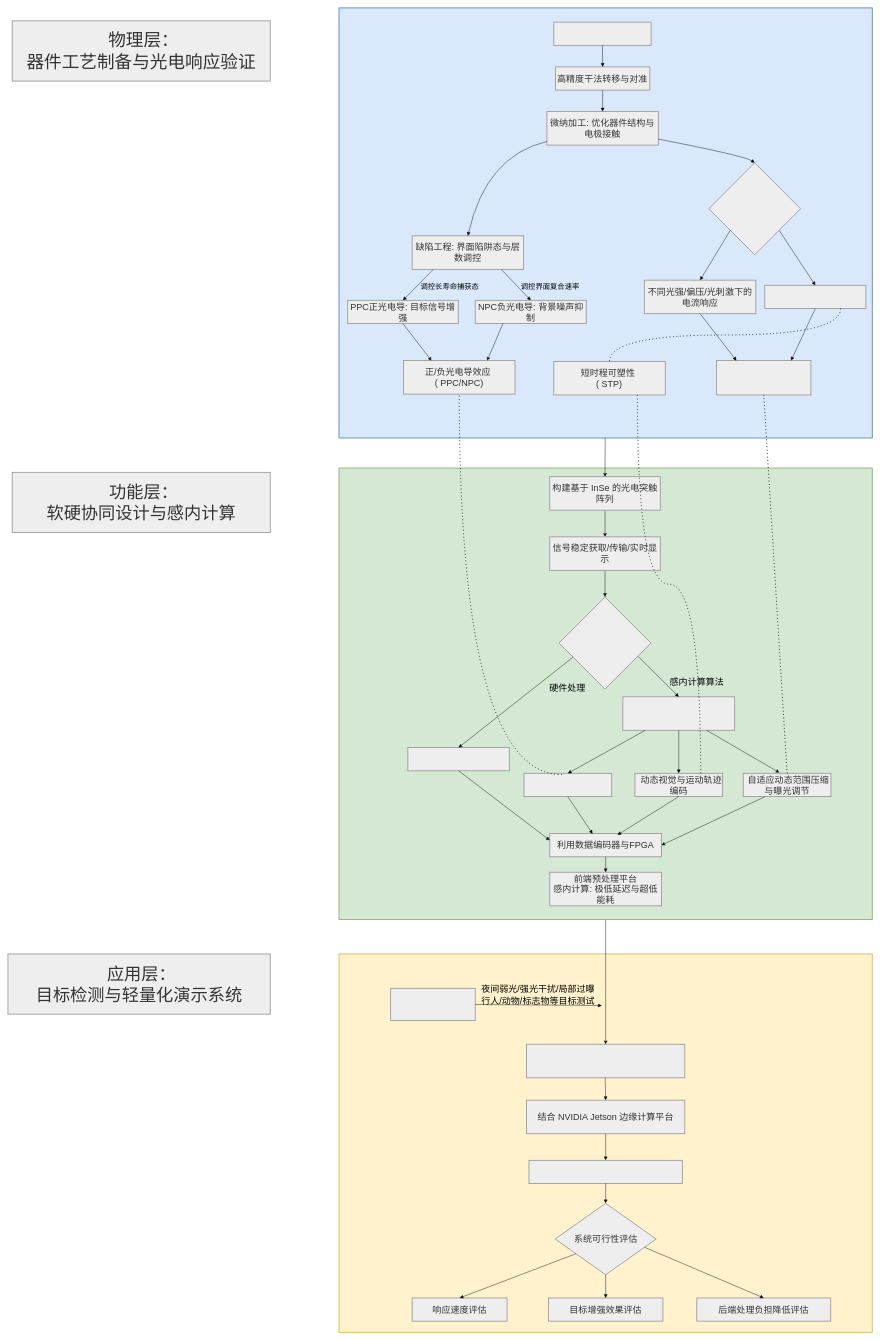
This 880x1340 diagram has some shape labels left out. The shapes that lost their labels are listed below. From the top down, each one's centre as x and y in pixels, then its label:
At (x=602, y=34): "高纯 InSe 晶体机械剥离".
At (x=754, y=208): "光电突触响应特性测试".
At (x=815, y=297): "测试恢复特性与可重复性".
At (x=763, y=377): "分析亮暗场景响应差异".
At (x=604, y=642): "软硬协同感内计算架构".
At (x=678, y=713): "基于器件光电响应特征的预处理".
At (x=458, y=759): "前端数据直接编码与转换".
At (x=567, y=785): "硬件级背景抑制与对比度增强".
At (x=432, y=1004): "典型极端光照场景模拟装置".
At (x=605, y=1061): "预处理数据集训练 YOLO v8 模型".
At (x=605, y=1172): "形成可展示的小型演示系统".
